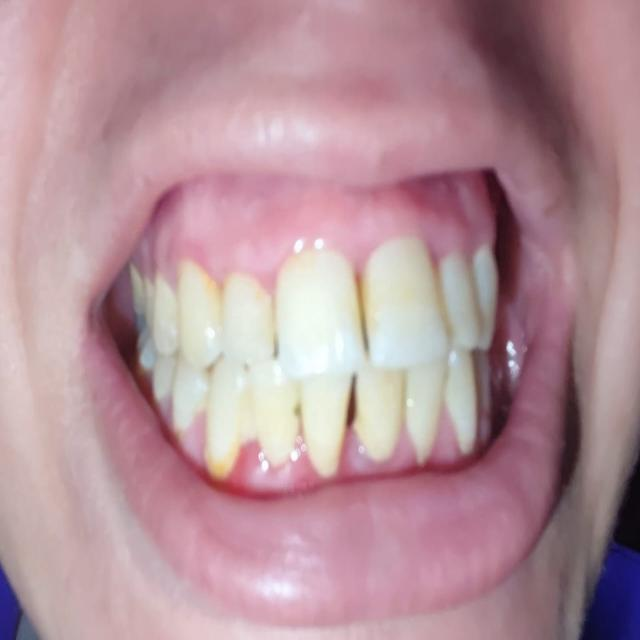tooth: (366, 250, 438, 361), (279, 270, 359, 364), (356, 362, 401, 474), (301, 369, 347, 471), (255, 363, 299, 469), (222, 278, 272, 363), (208, 363, 245, 469), (175, 262, 217, 352), (447, 353, 478, 451), (444, 257, 476, 346), (409, 362, 441, 450), (172, 357, 204, 426), (154, 275, 176, 355), (153, 356, 170, 396)
